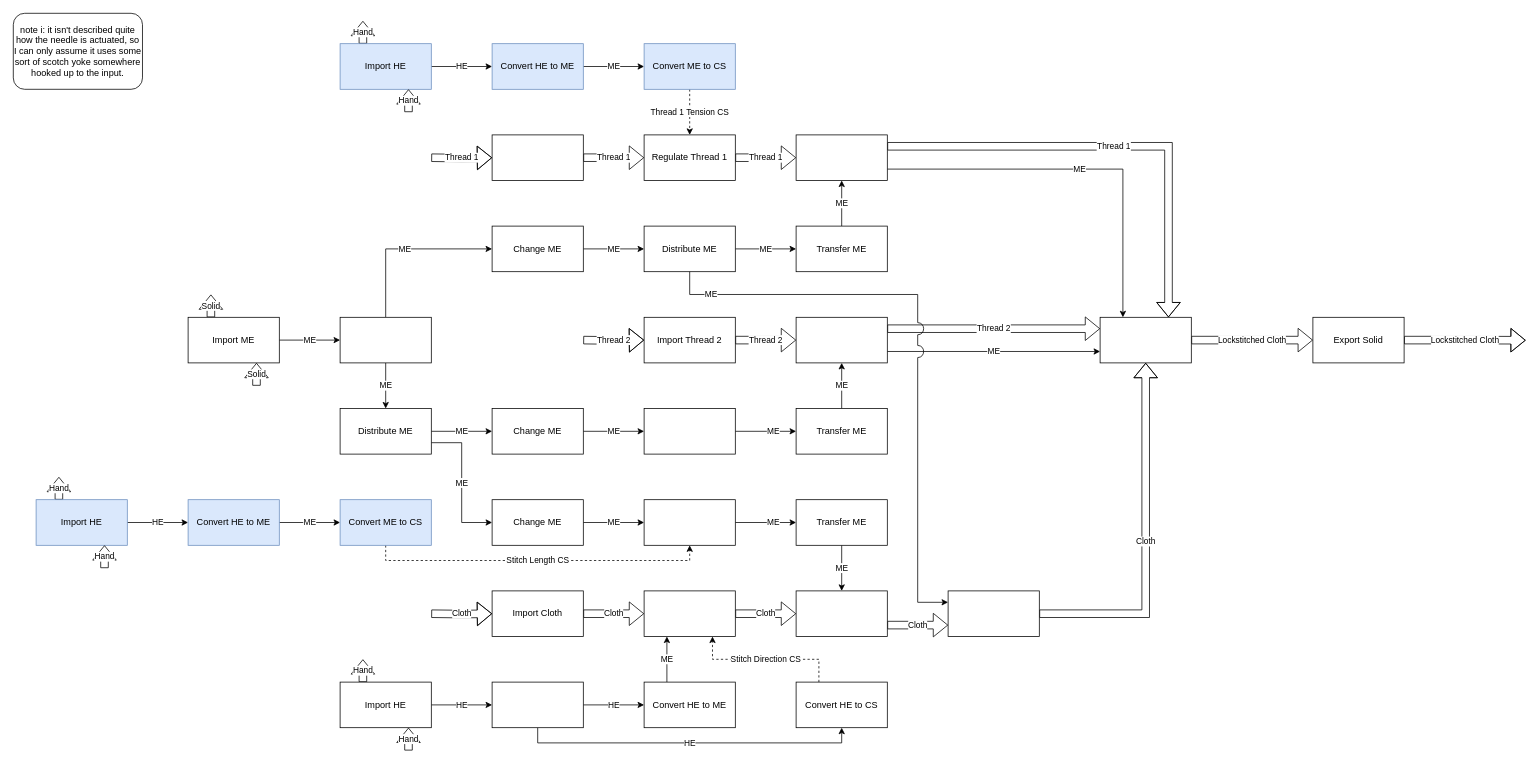
Image size: 1539x764. Some labels were removed from this diagram. The centre of each missing label's shape, as x and y in pixels:
"Couple Solids" goes at [1145,340].
"Distribute HE" goes at [537,704].
"Distribute ME (note i)" goes at [385,340].
"Guide Cloth" goes at [841,613].
"Guide Thread 1" goes at [841,157].
"Guide Thread 2" goes at [841,340].
"Import Thread 1" goes at [537,157].
"Regulate Cloth" goes at [689,613].
"Regulate ME" goes at [689,522].
"Secure Cloth" goes at [993,613].
"Stabilize ME (purpose of the spring guide mech. is to reduce noise & fric.)" goes at [689,431].
